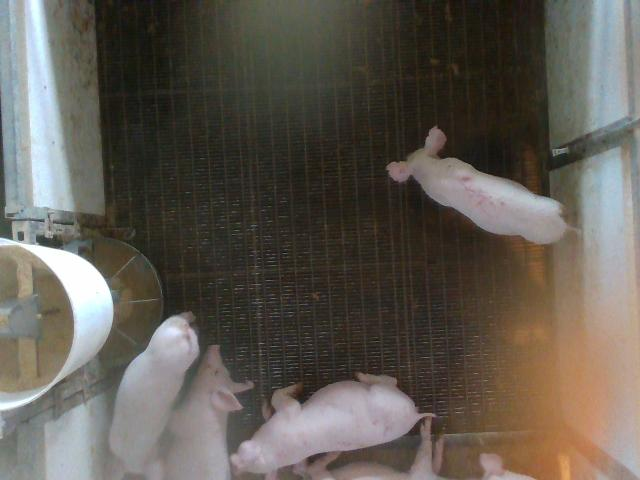pig-5: (386, 126, 568, 244)
